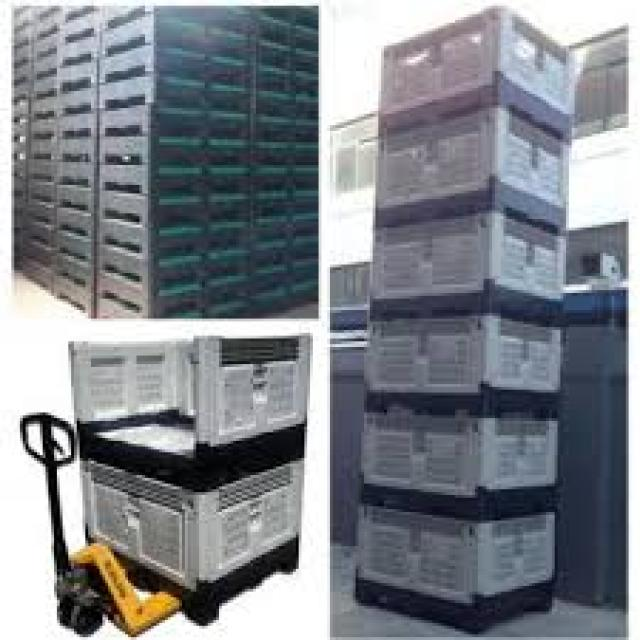basket: (323, 3, 573, 640), (14, 9, 319, 319), (61, 334, 310, 625), (196, 338, 310, 448)
